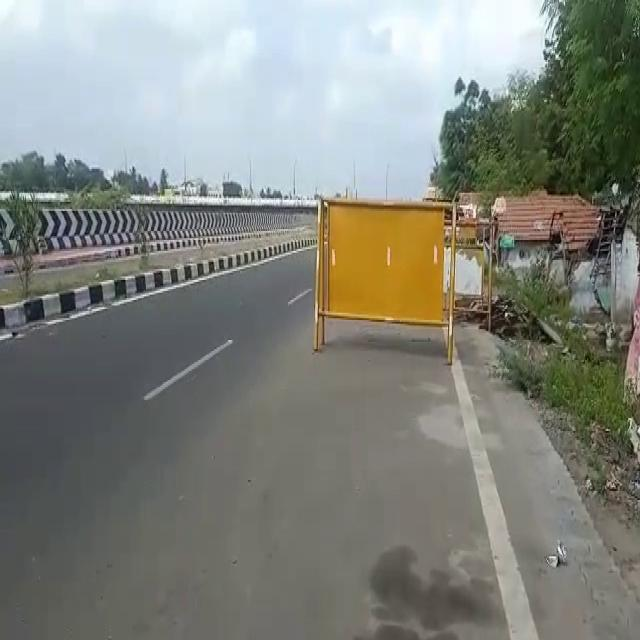fallen_object: (283, 165, 473, 369)
